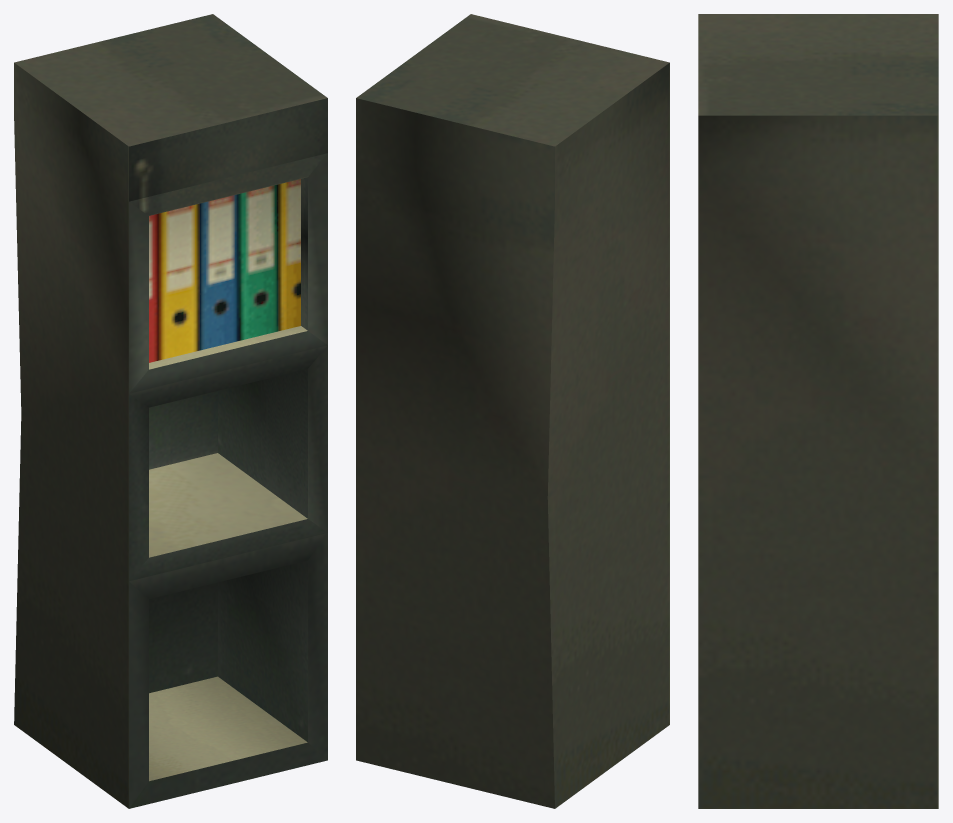
File: closet.fbx
The picture shows the model from 3 angles, left to right: view 1: azimuth 30°, elevation 25°; view 2: azimuth 150°, elevation 25°; view 3: azimuth 270°, elevation 25°; orthographic projection. The views are drawn at different scales.
Parts seen in each view (by area): view 1: Closet; view 2: Closet; view 3: Closet.
Boxes of the visible parts, x1,y1,x2,y2 form: Closet: (14, 14, 327, 808); Closet: (356, 14, 669, 808); Closet: (698, 14, 938, 808).
Bounding box in the file's own units: 0.6 × 0.6 × 1.91.
1 material, 1 textured.
